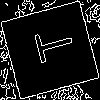T: (24, 24, 76, 67)
